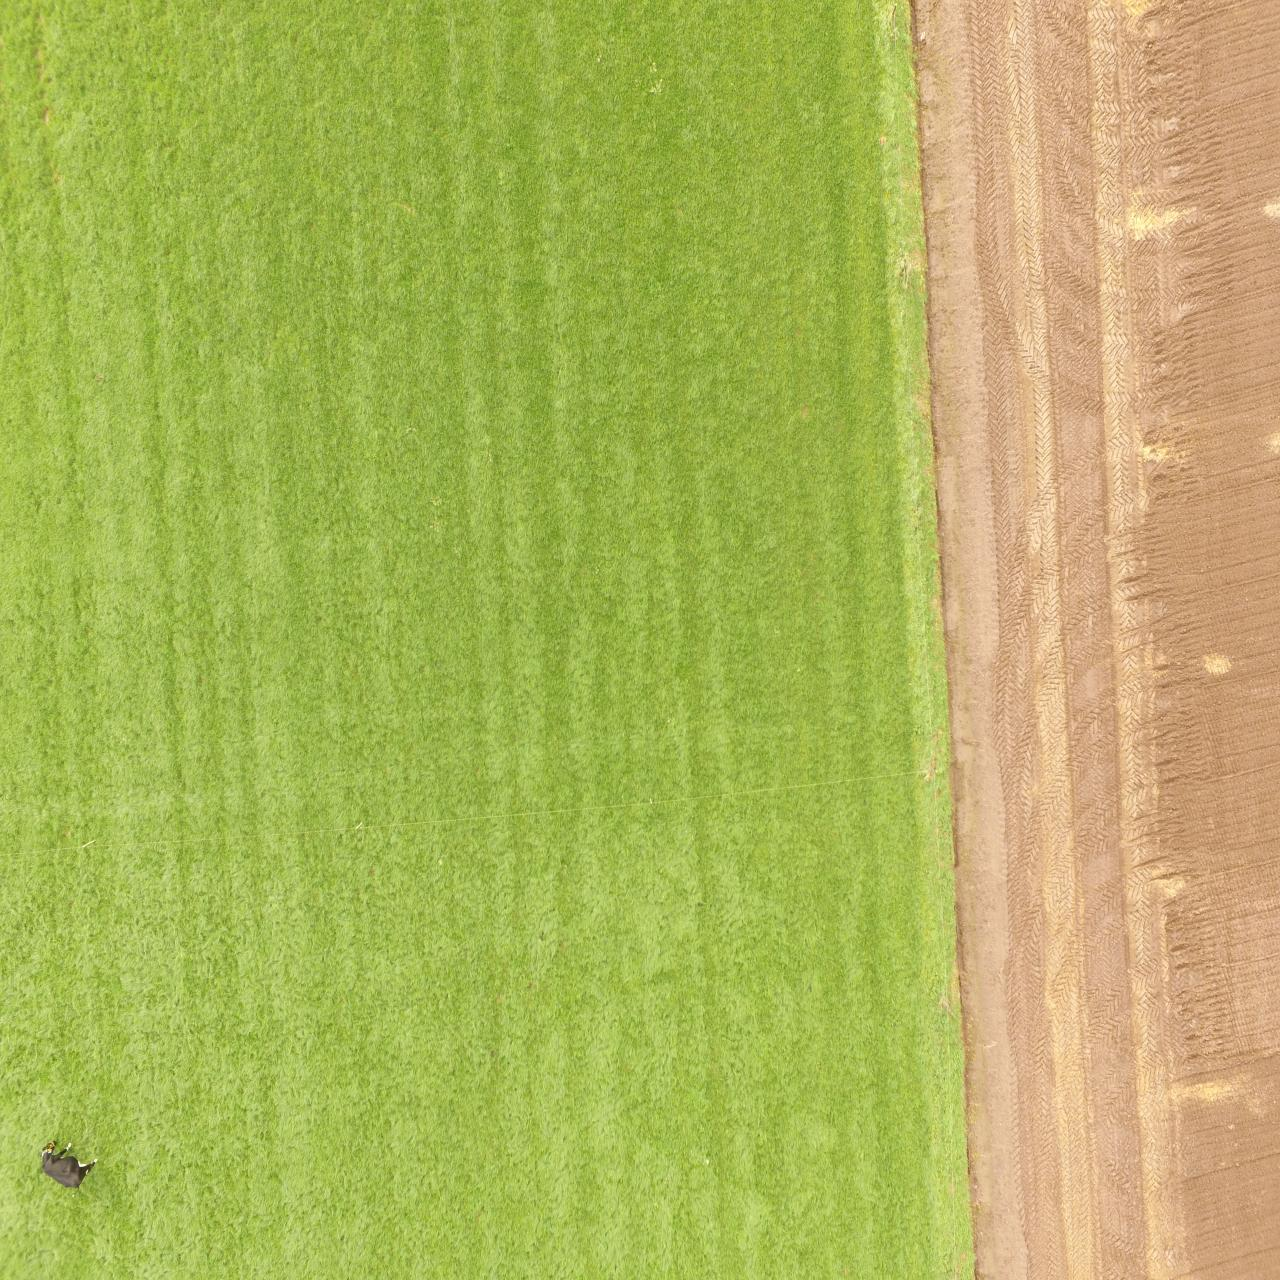cow: (35, 1136, 100, 1194)
